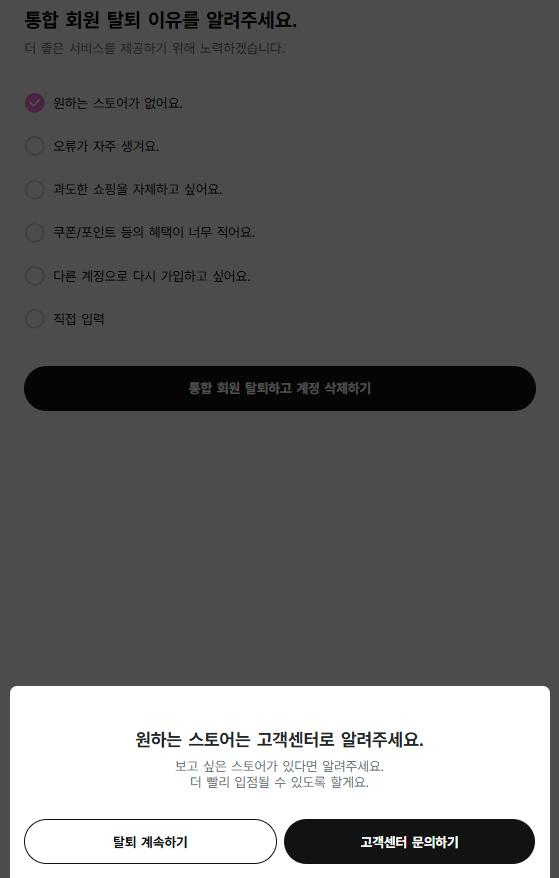button: (24, 365, 539, 412), (24, 814, 276, 865), (283, 816, 534, 865)
checkbox: (20, 214, 270, 250), (21, 259, 264, 292), (20, 169, 231, 205), (20, 80, 193, 122), (21, 130, 198, 163), (21, 303, 124, 340)
popup: (11, 686, 550, 878)
